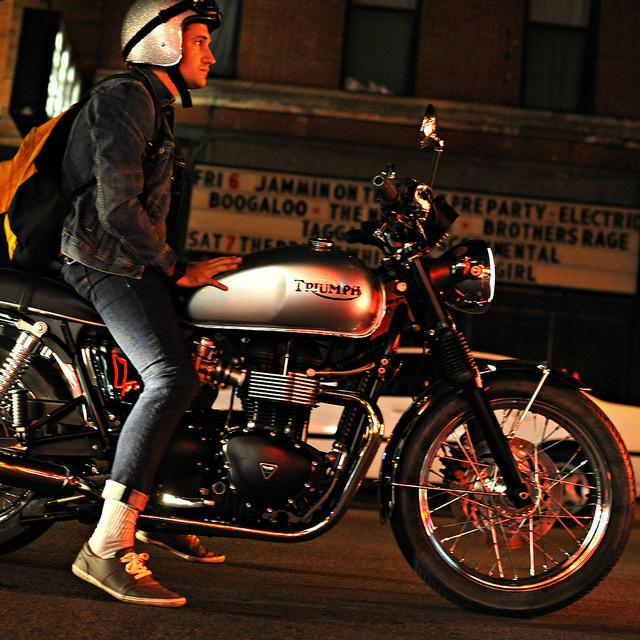Motorbike: (15, 94, 640, 622)
People: (7, 7, 282, 607)
